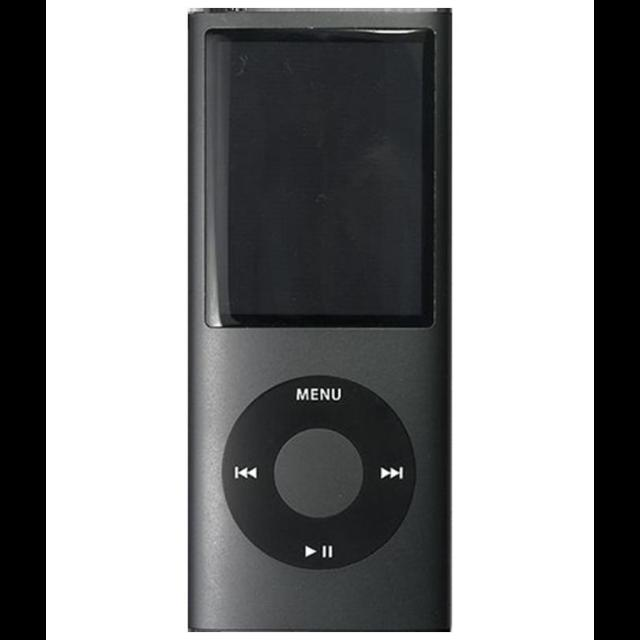Music-Player: (170, 0, 492, 640)
